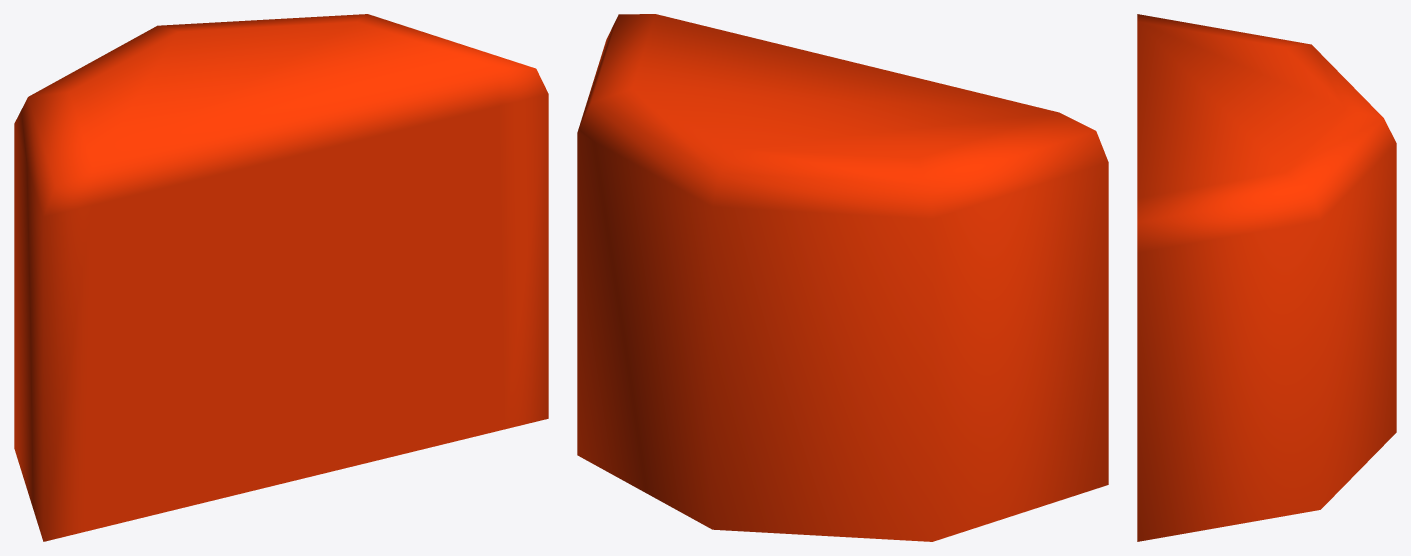
The model's file is block_shapes_hemicircle_01.FBX.
3 views of the same model, side by side, from view 1: azimuth 30°, elevation 25°; view 2: azimuth 150°, elevation 25°; view 3: azimuth 270°, elevation 25° (orthographic). The views are drawn at different scales.
Parts seen in each view (by area): view 1: block_shapes_hemicircle_01; view 2: block_shapes_hemicircle_01; view 3: block_shapes_hemicircle_01.
Boxes of the visible parts, x1,y1,x2,y2 form: block_shapes_hemicircle_01: (14, 14, 548, 541); block_shapes_hemicircle_01: (577, 14, 1108, 541); block_shapes_hemicircle_01: (1137, 14, 1396, 541).
Bounding box in the file's own units: 480 × 329 × 240.
